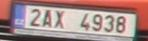2: (29, 7, 40, 28)
3: (104, 14, 114, 33)
4: (79, 12, 90, 31)
8: (116, 15, 127, 33)
9: (91, 14, 103, 32)
A: (42, 9, 52, 29)
X: (54, 10, 66, 30)
